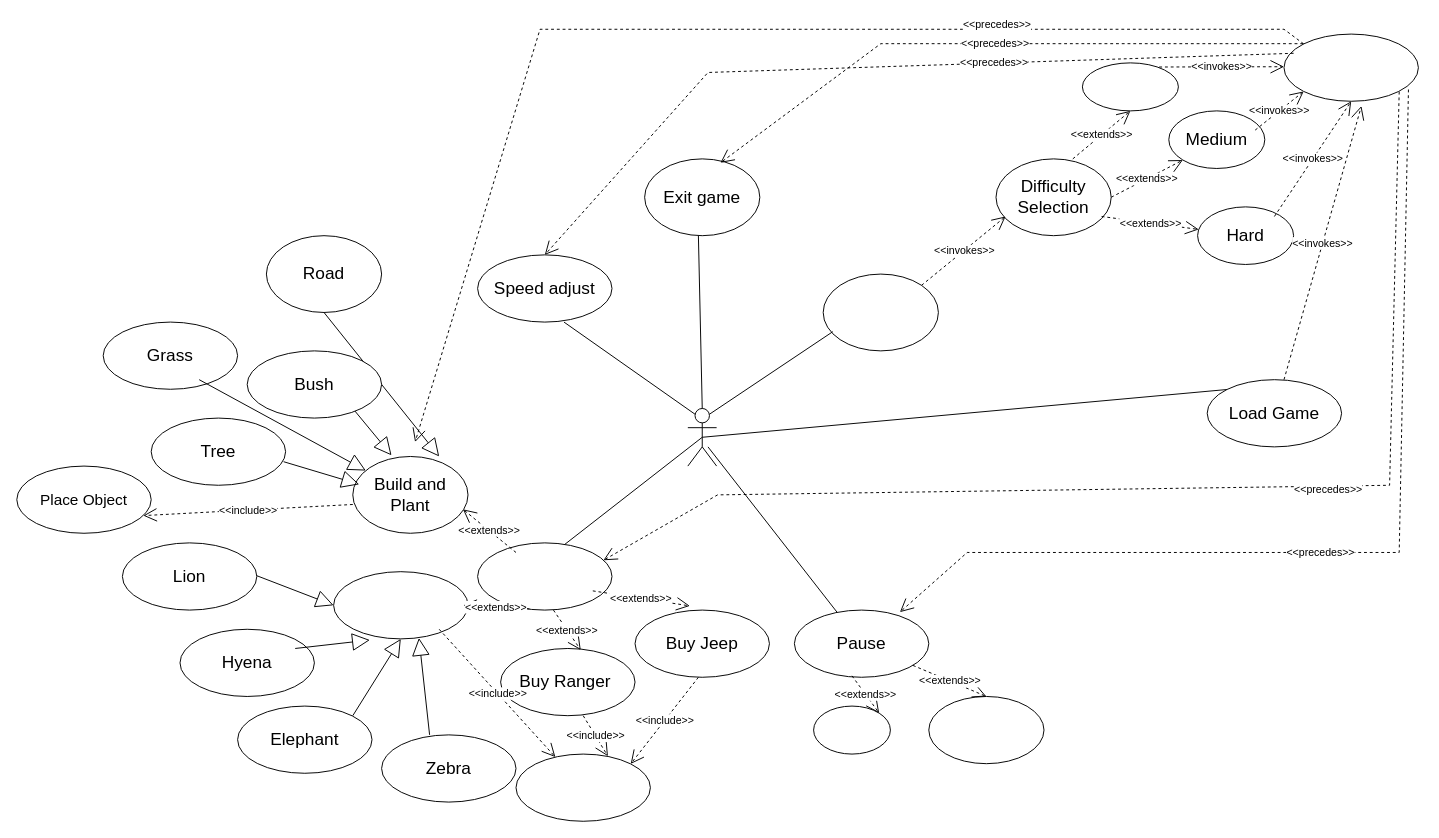
This 1439x838 diagram has some shape labels left out. The shapes that lost their labels are listed below. From the top down, each one's box as (x1, y1, x2, y2) in pixels, then its label:
(1081, 62, 1178, 111): Easy
(1283, 33, 1418, 101): Load Map
(822, 273, 938, 351): New Game
(687, 408, 717, 466): Player
(477, 542, 612, 610): Open Shop
(333, 571, 468, 639): Buy animal
(813, 705, 890, 754): Save
(928, 696, 1044, 764): Back to main menu
(515, 753, 650, 821): Place Being
